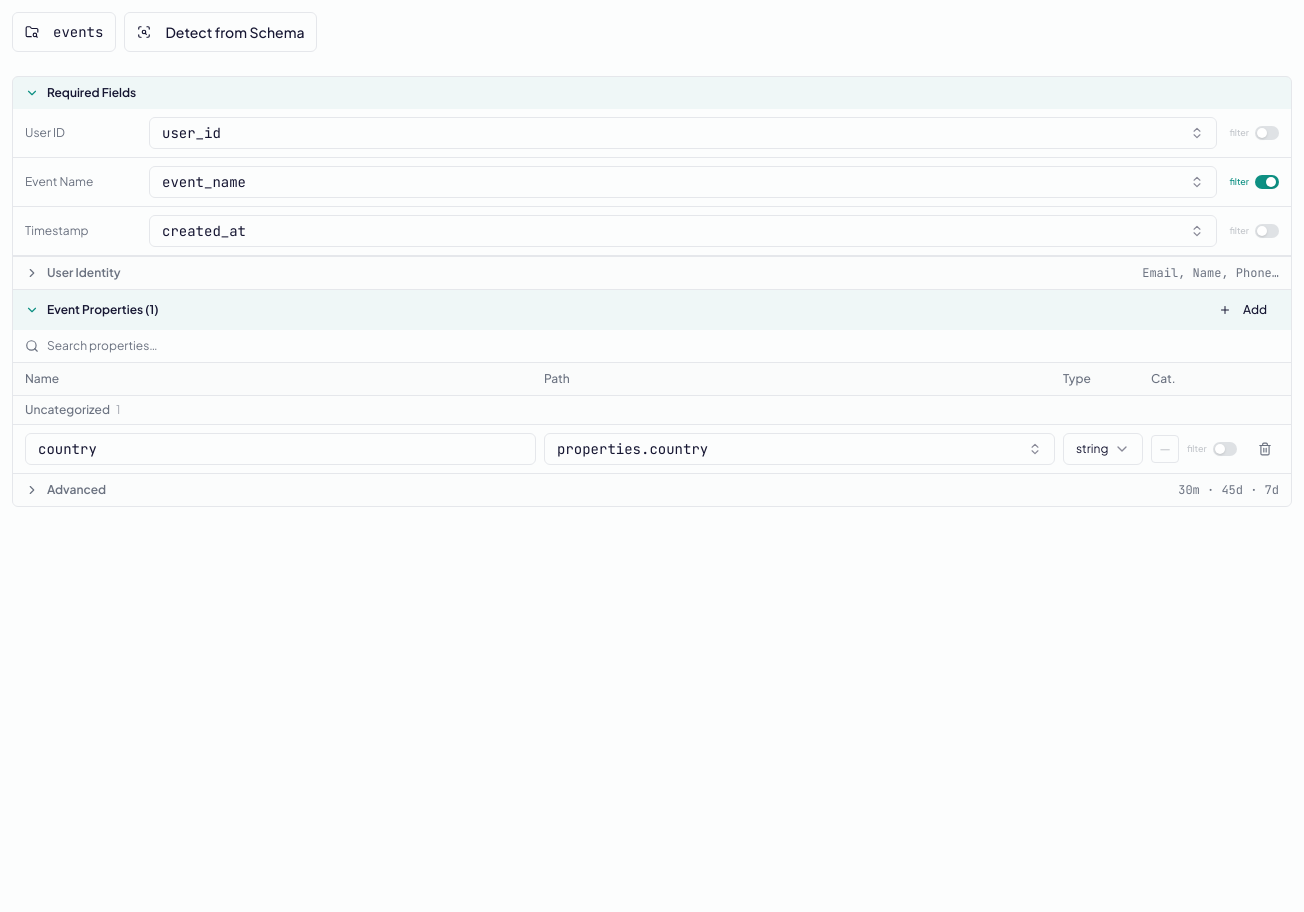
SchemaConfigTab — detect review panel › shows proposed fields in review panel after detect runs (not yet applied)
Click the button "Detect from Schema" at (221, 32), box [124,12,318,52]
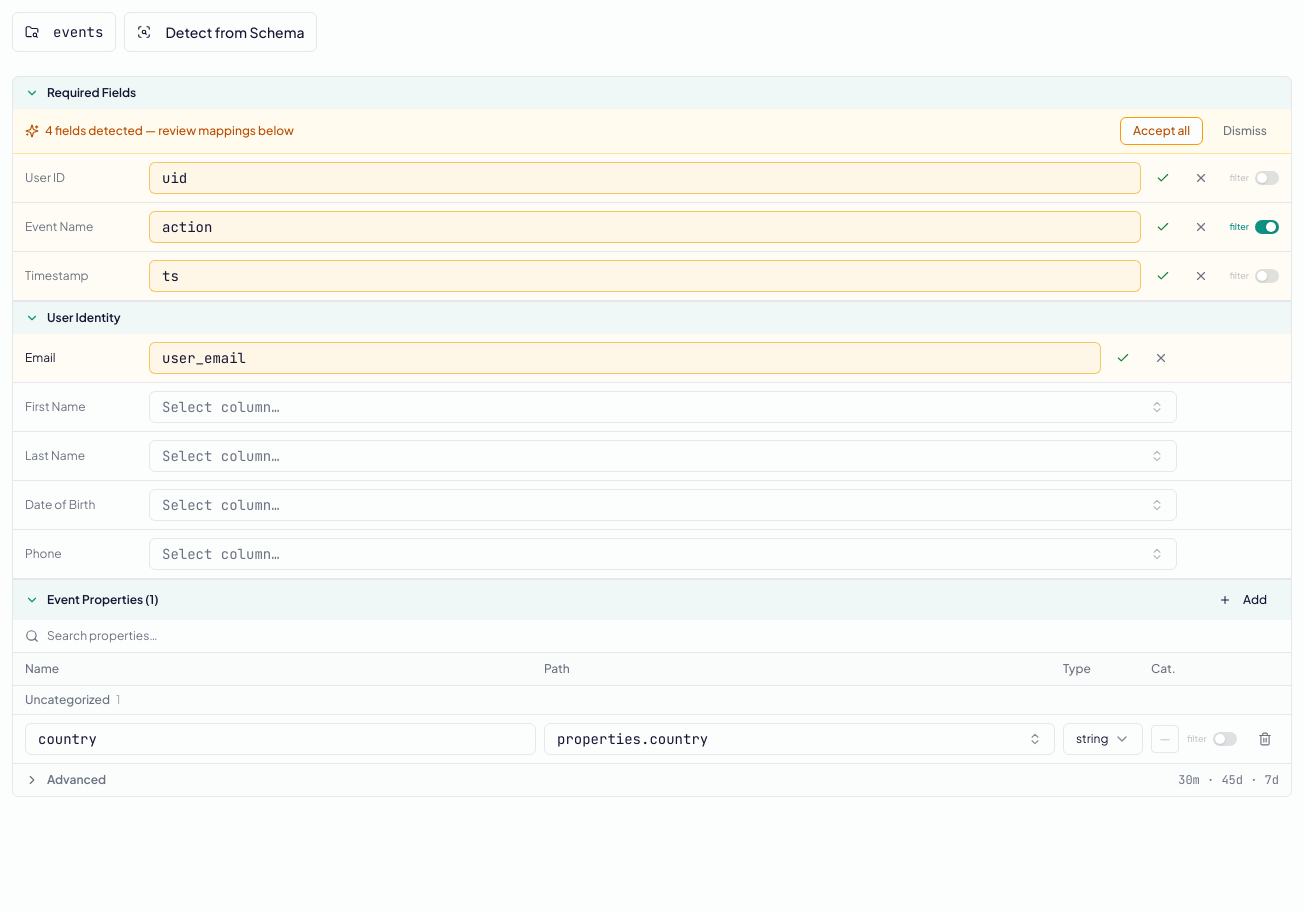
Result: the text "4 fields detected — review mappings below" is shown at [25,123,294,139]
Result: the text "uid" is shown at [149,162,1141,194]
Result: the text "action" is shown at [149,211,1141,243]
